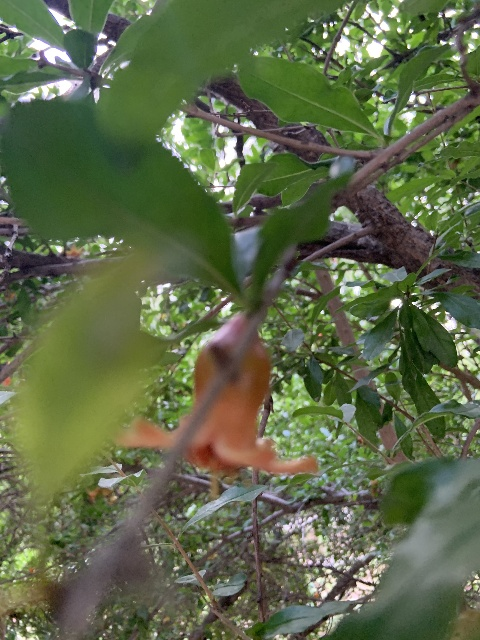early-fruit: (114, 316, 319, 489)
